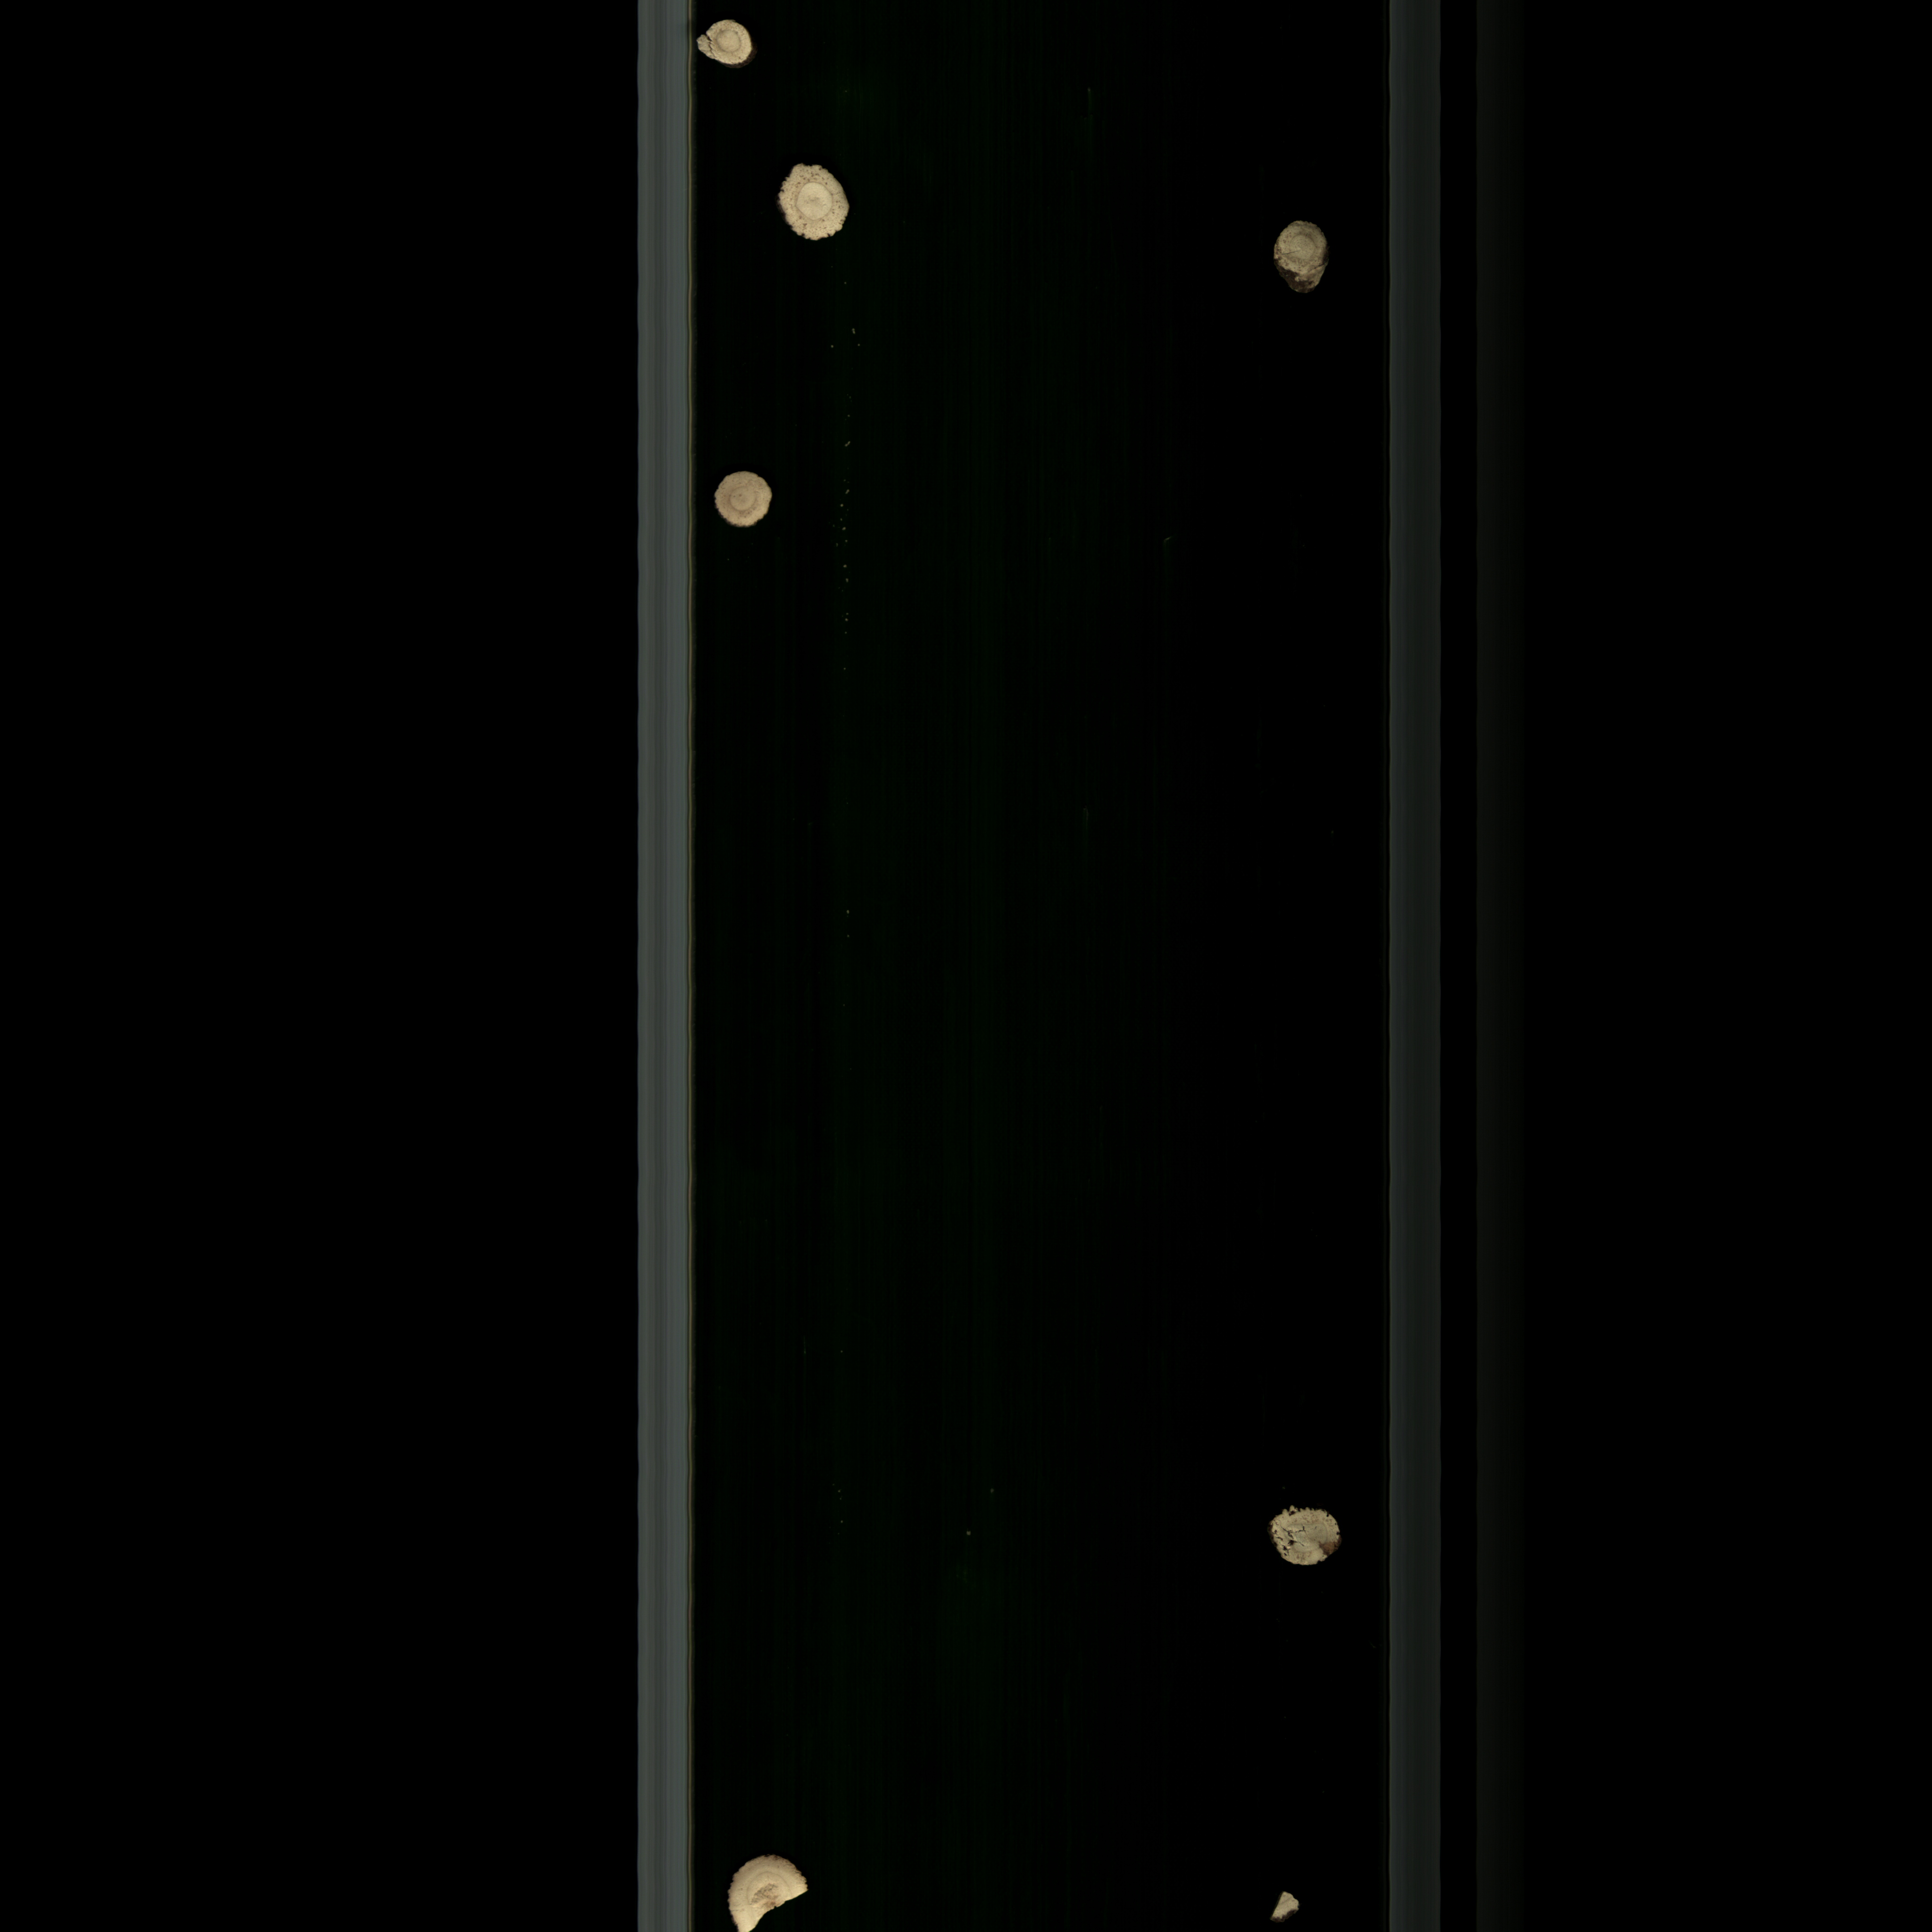bark: (1276, 209, 1330, 299)
debris: (724, 1840, 814, 1930)
dreg: (1260, 1882, 1313, 1927)
hole: (1251, 1490, 1361, 1589), (694, 16, 763, 78)
